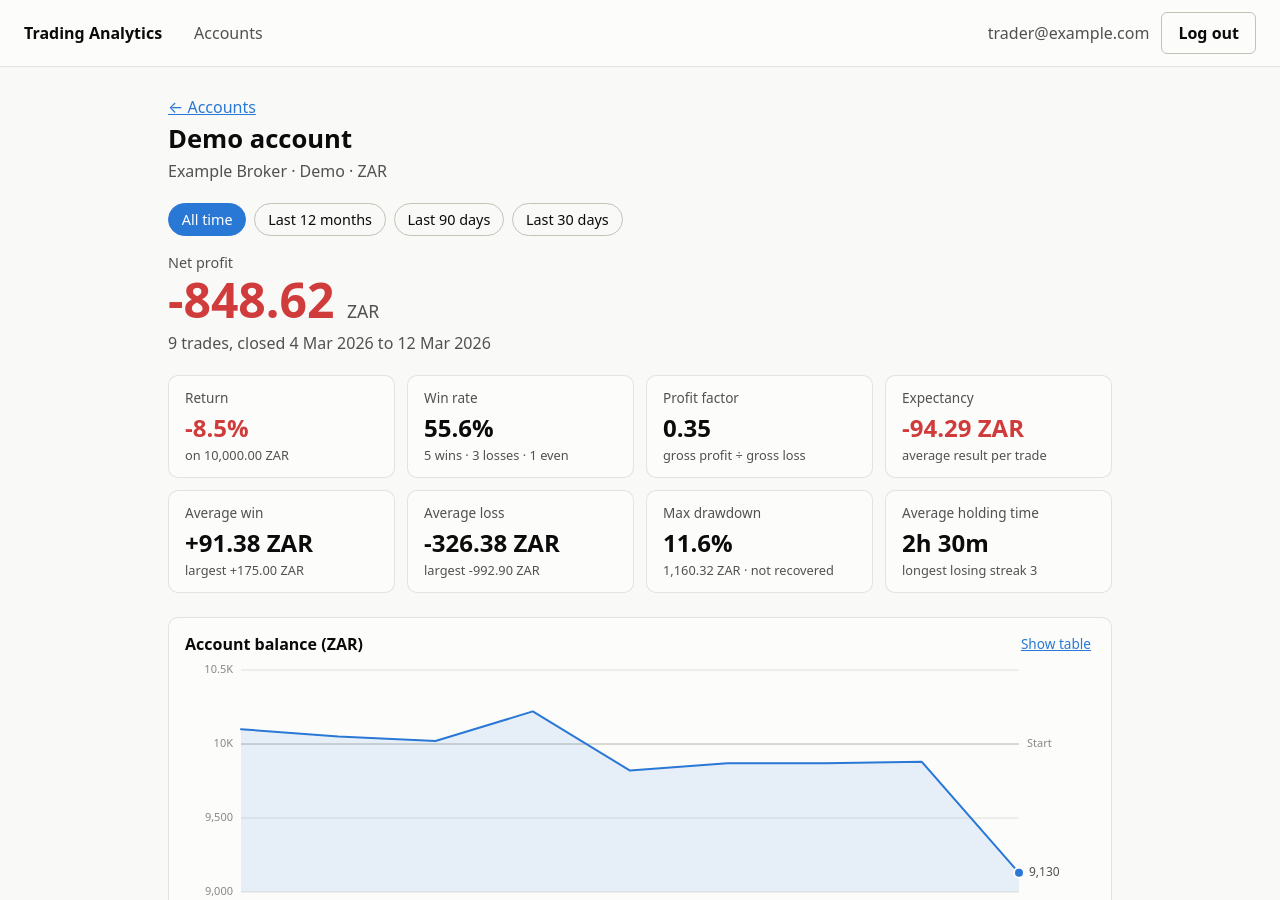
Test: account overview › asks for a period and keeps the figures while it loads
Check: the element "Net profit" is shown, box top-left (168, 253), bottom-right (491, 354)
Click the radio button labelled "Last 90 days" at (449, 220), box top-left (394, 203), bottom-right (504, 236)
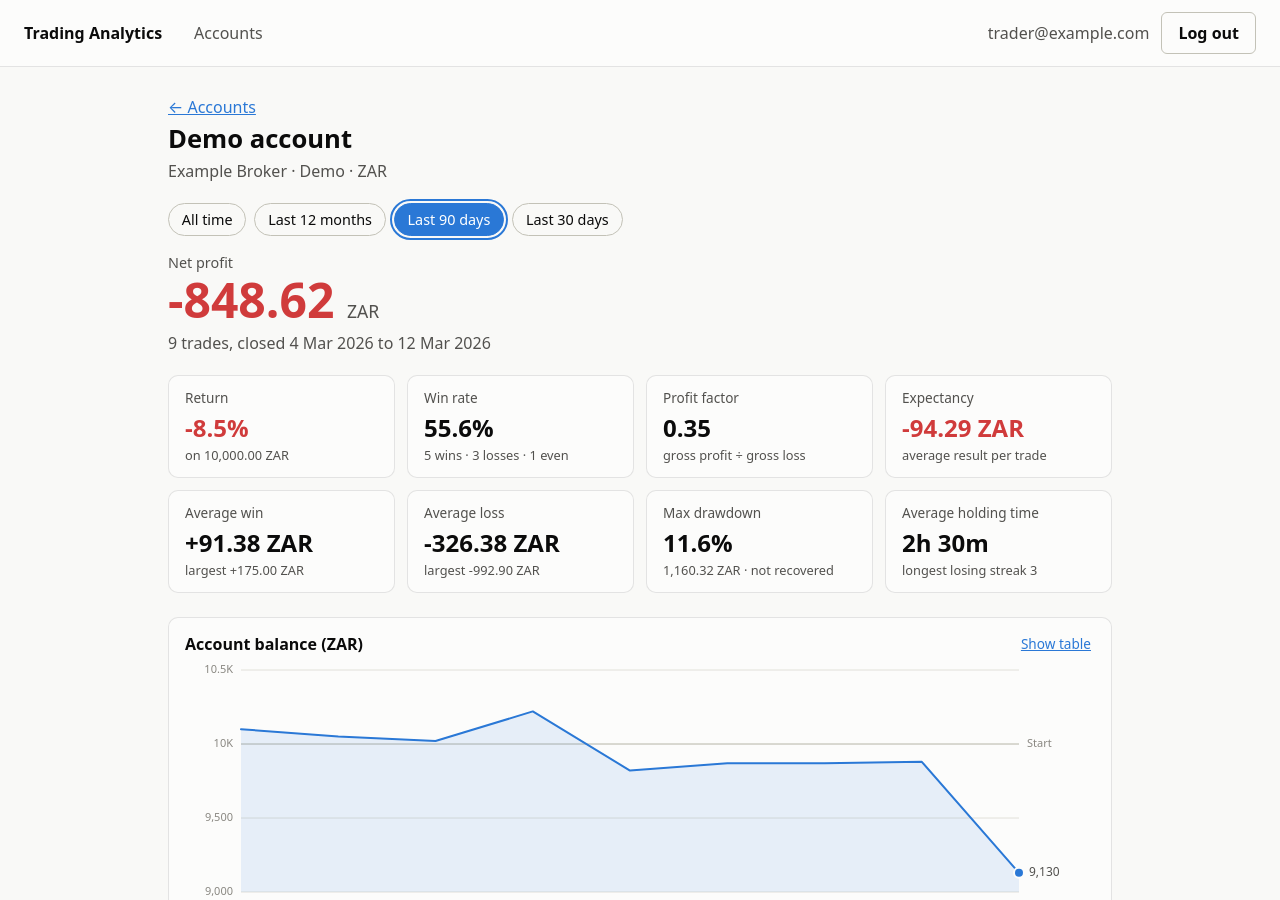
Check: the radio button labelled "Last 90 days" is checked, box top-left (394, 203), bottom-right (504, 236)
Check: the radio button labelled "All time" is not checked, box top-left (168, 203), bottom-right (246, 236)
